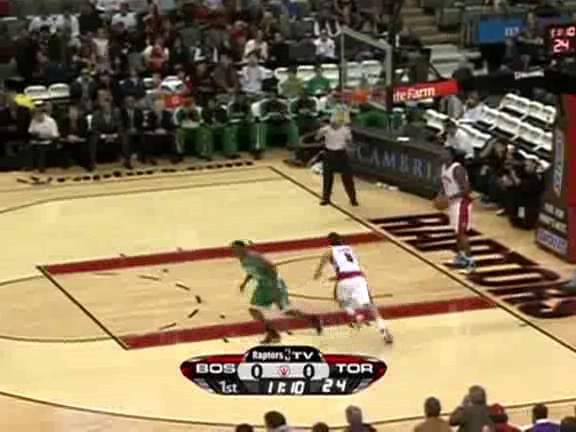person: (243, 243, 277, 324), (242, 243, 276, 324), (244, 243, 278, 324), (243, 242, 277, 323), (243, 244, 277, 325)
target_negative: (50, 187, 283, 354), (474, 144, 576, 189), (218, 337, 274, 407), (527, 254, 572, 317), (336, 366, 339, 425), (546, 401, 568, 409)
